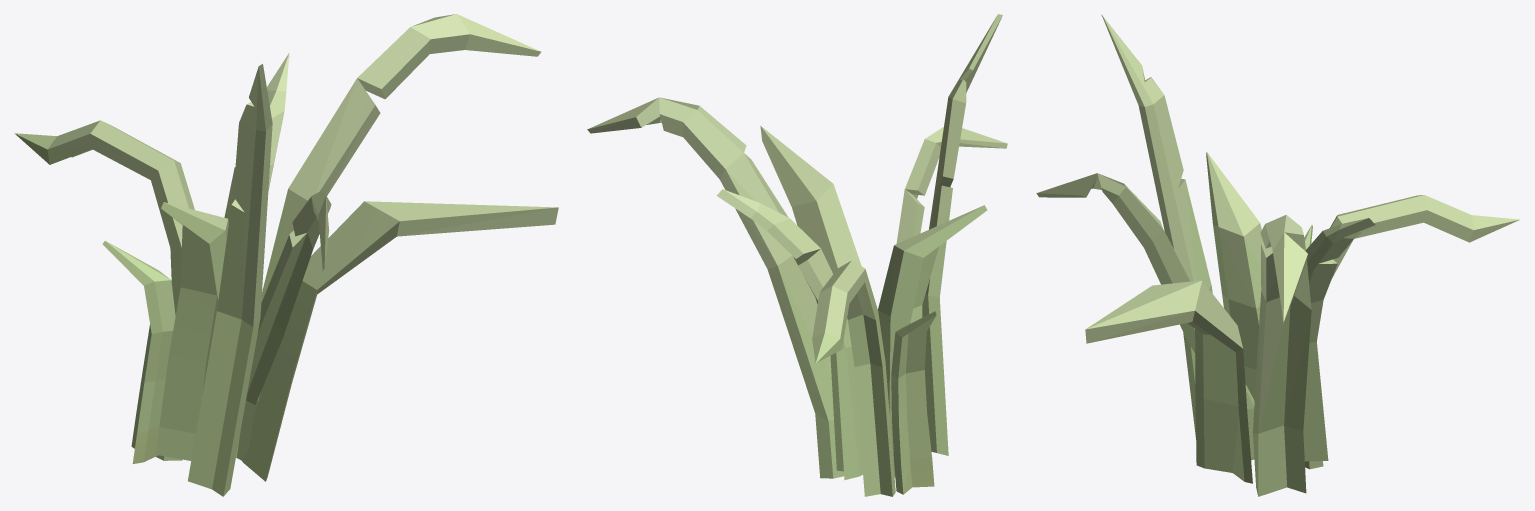
Rendered from grass_15.glb.
3 views of the same model, side by side, from view 1: azimuth 30°, elevation 25°; view 2: azimuth 150°, elevation 25°; view 3: azimuth 270°, elevation 25° (orthographic). The views are drawn at different scales.
Parts seen in each view (by area): view 1: PP_Grass_15.002; view 2: PP_Grass_15.002; view 3: PP_Grass_15.002.
Boxes of the visible parts, box(x1,y1,x2,y2) form: PP_Grass_15.002: box(14, 14, 558, 496); PP_Grass_15.002: box(587, 14, 1007, 496); PP_Grass_15.002: box(1036, 14, 1519, 496).
Bounding box in the file's own units: 0.5633 × 0.6188 × 0.6157.
